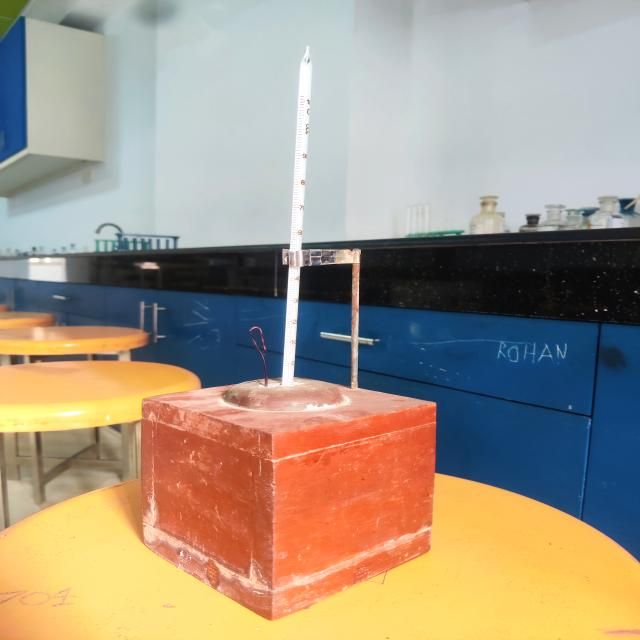Calorimeter: (113, 37, 486, 637)
